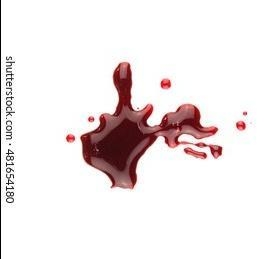Fire: (79, 61, 222, 189), (183, 147, 207, 159), (234, 120, 246, 132), (159, 78, 171, 89), (65, 133, 75, 143)
